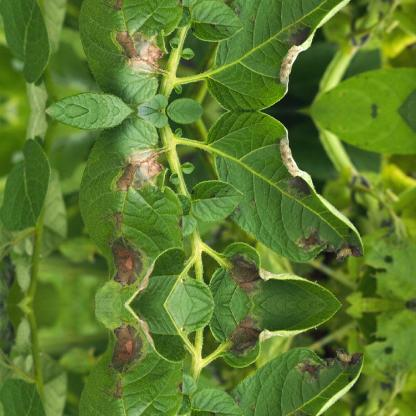Late-Blight: (196, 127, 386, 297), (196, 311, 386, 416), (196, 0, 386, 93), (90, 134, 174, 294), (90, 314, 174, 416), (90, 0, 174, 86)
